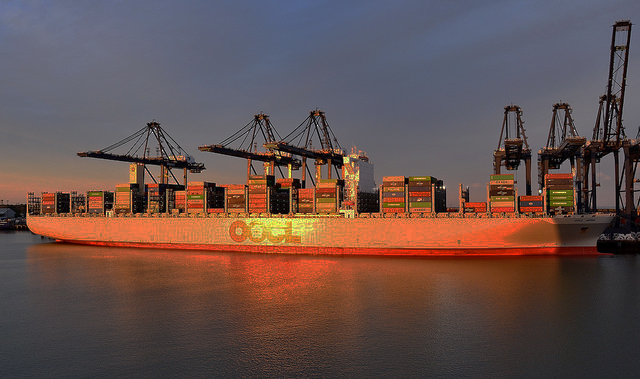container_ship: (23, 151, 620, 261)
